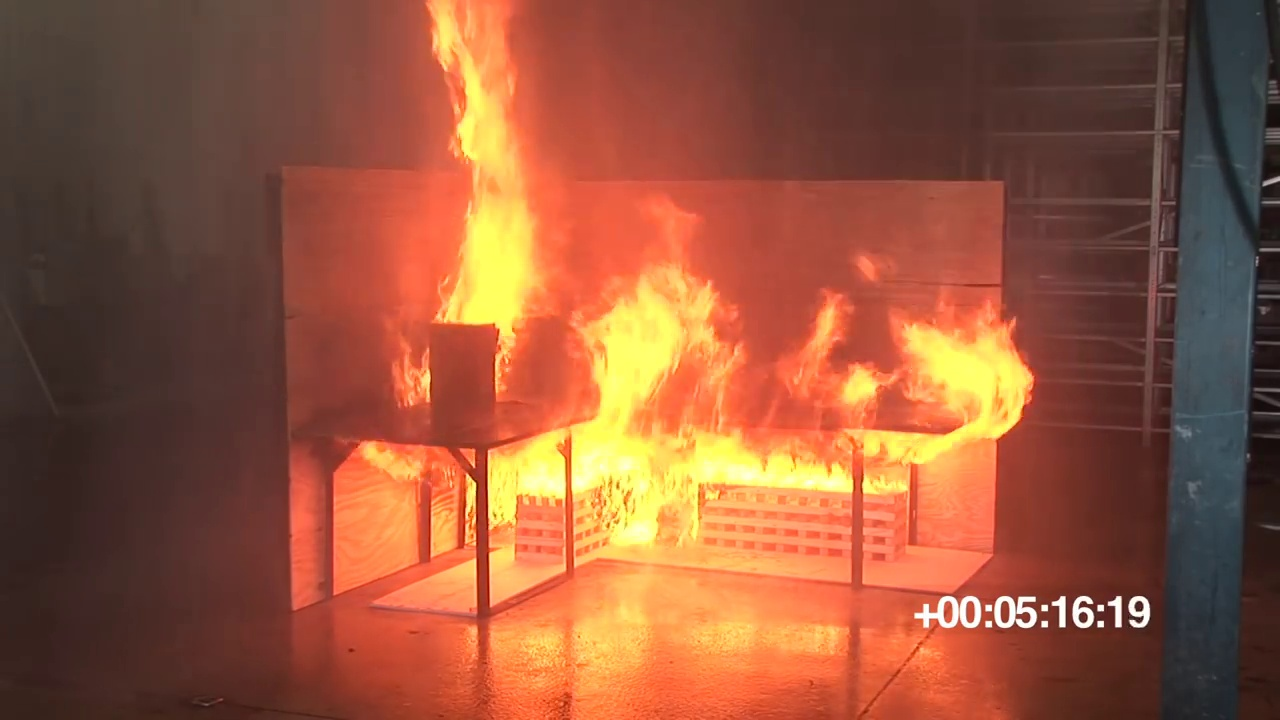fire: (426, 1, 534, 324), (583, 268, 738, 441), (471, 439, 904, 496), (904, 303, 1030, 433), (781, 280, 884, 421)
